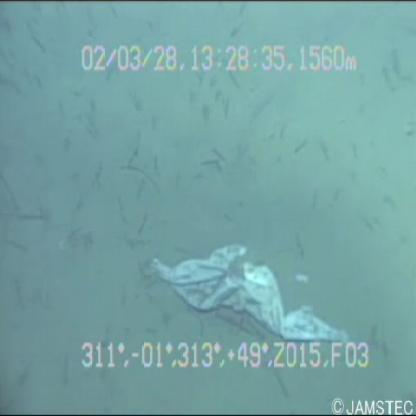Rác: (134, 224, 362, 350)
